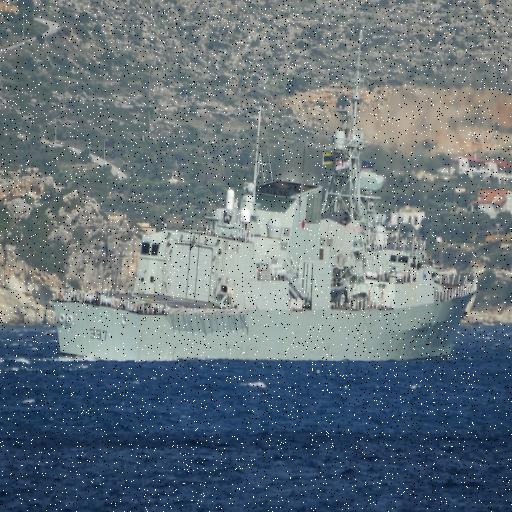Fragata: (48, 34, 480, 370)
